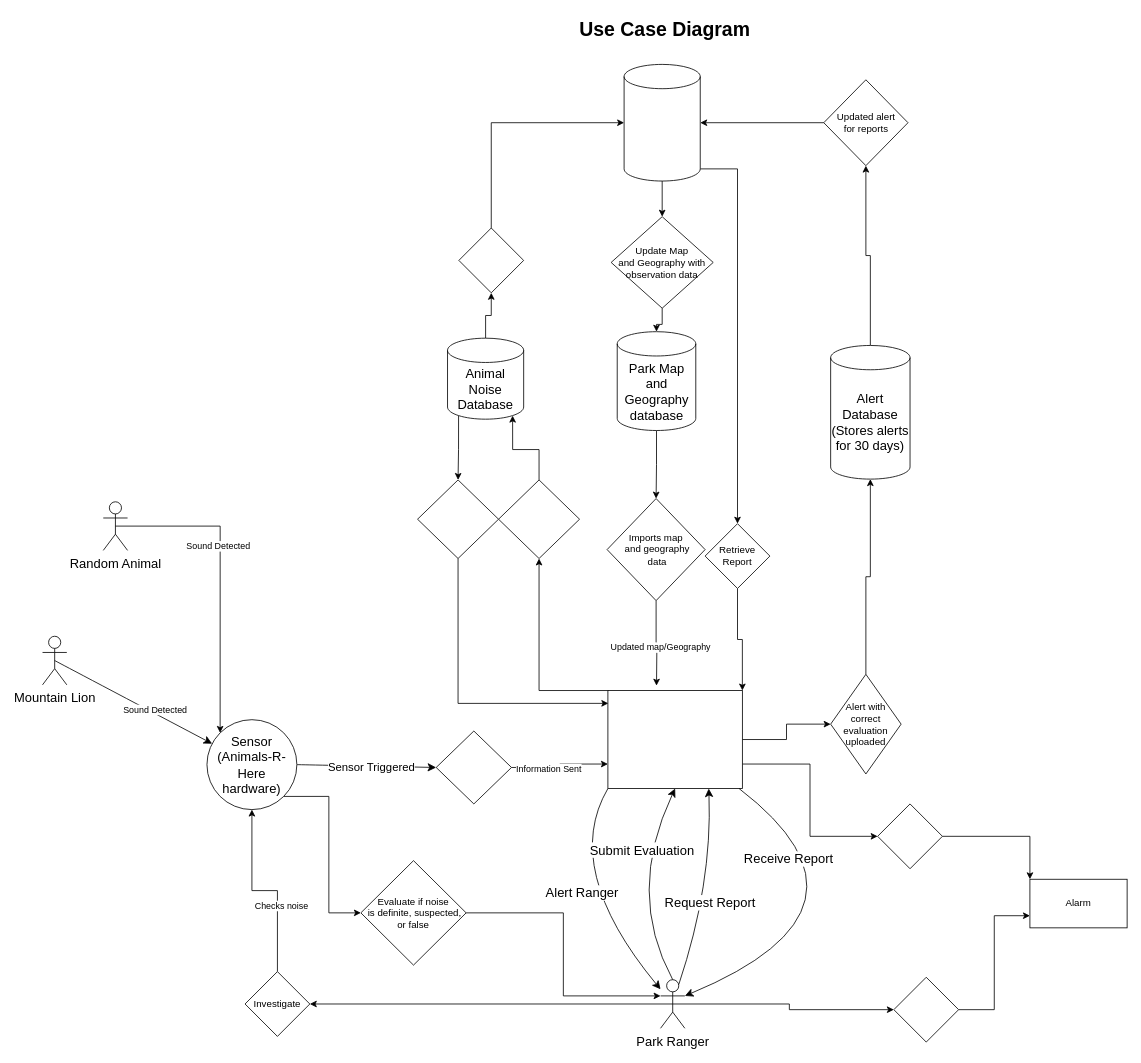
Some shapes in this 1141 by 1063 pixel diagram are drawn without their labels. Here are the shapes that lost their labels. From the top down, the box of each, then its label:
(623, 64, 700, 181): Reports Database (Saved reports for up to a year)
(458, 227, 524, 293): Upload Animal data
(417, 479, 499, 558): Import noise for comparison
(498, 479, 580, 558): Upload new animal noise
(607, 690, 742, 789): Control Computer (Handles all functions that are sent to it)
(435, 730, 512, 804): Information recorded
(877, 803, 942, 869): Tripped Sensor
(893, 976, 959, 1042): Turn off Alarm
